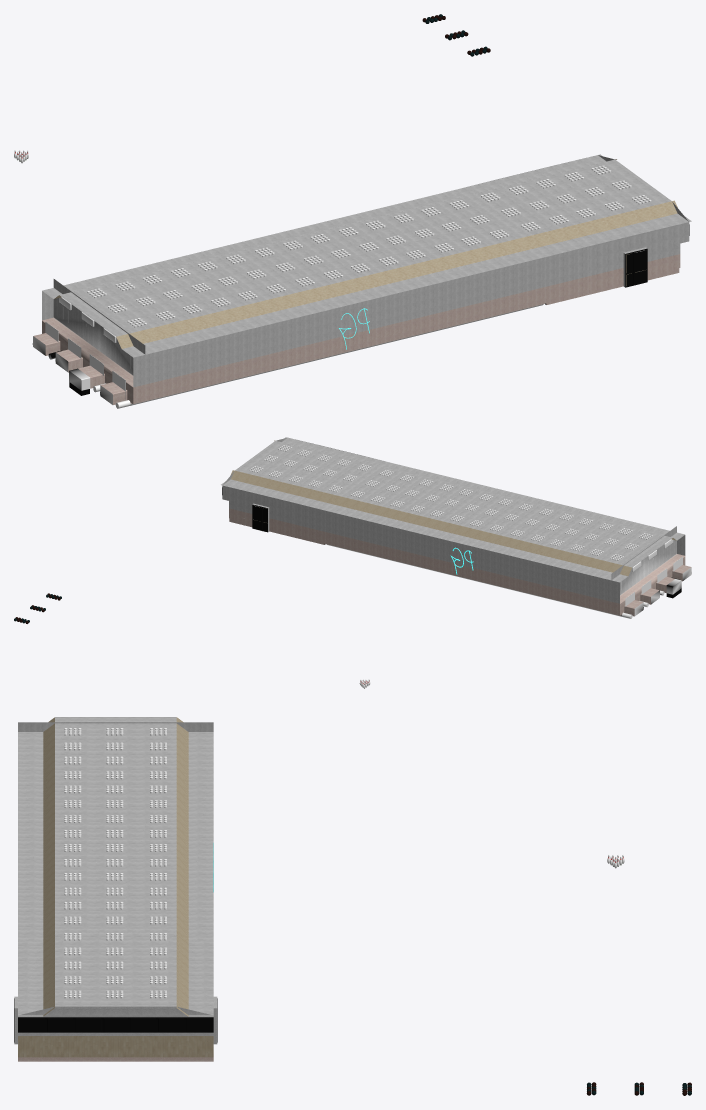
File: ForScene.fbx
The picture shows the model from 3 angles, top to bottom: view 1: azimuth 30°, elevation 25°; view 2: azimuth 150°, elevation 25°; view 3: azimuth 270°, elevation 25°; orthographic projection. The views are drawn at different scales.
Visible parts, largest first — view 1: Plane001, Cylinder003; view 2: Plane001, Cylinder003; view 3: Plane001, Cylinder003.
Part boxes in pixels (x1,y1,x2,y2): Plane001: (32,154,691,408); Cylinder003: (87,165,651,327); Plane001: (221,437,691,618); Cylinder003: (249,445,652,560); Plane001: (14,717,217,1061); Cylinder003: (64,728,166,998).
Bounding box in the file's own units: 2980 × 277 × 2530.
